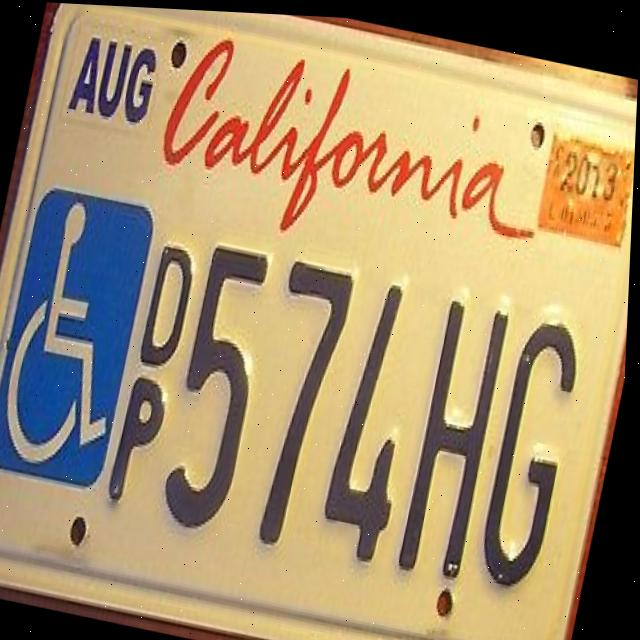symbol_of_access: (0, 179, 163, 487)
